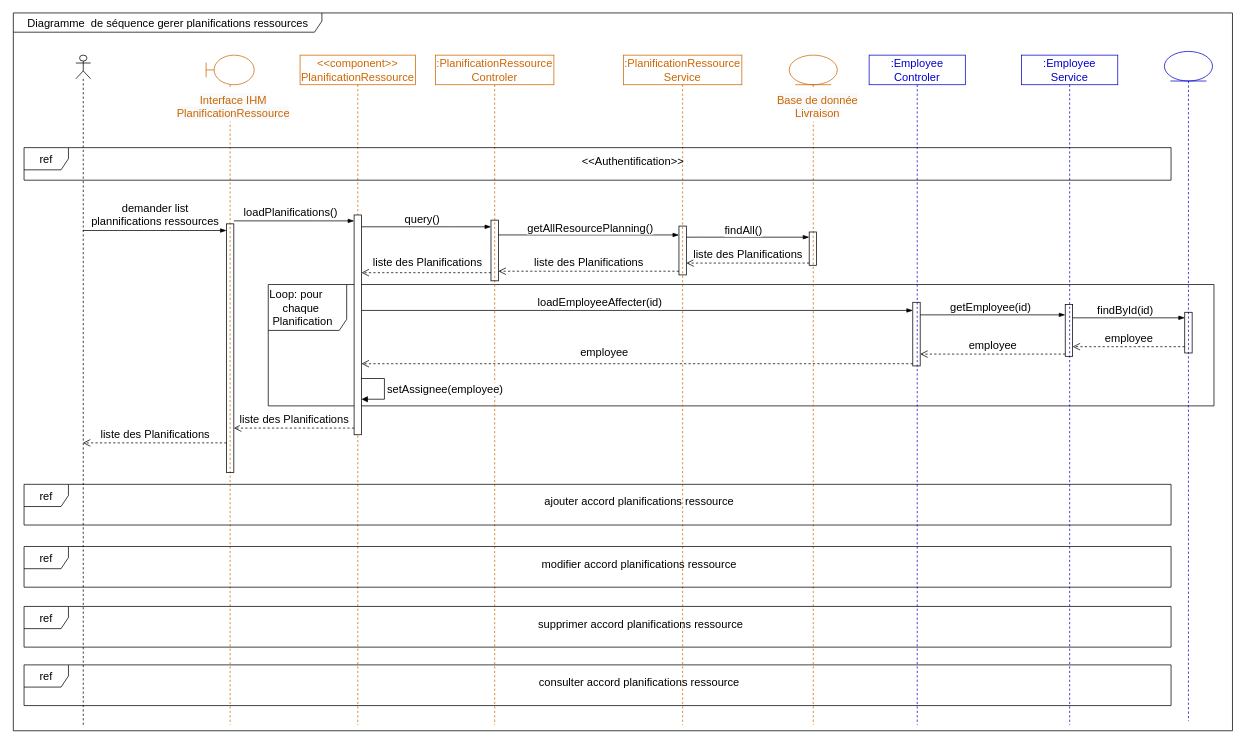
This 1246x744 diagram has some shape labels left out. The shapes that lost their labels are listed below. From the top down, each one's box as (x1, y1, x2, y2) in pixels, then its label:
(75, 54, 91, 725): Administrateur
(1164, 51, 1212, 721): Base de donnée Personnel
